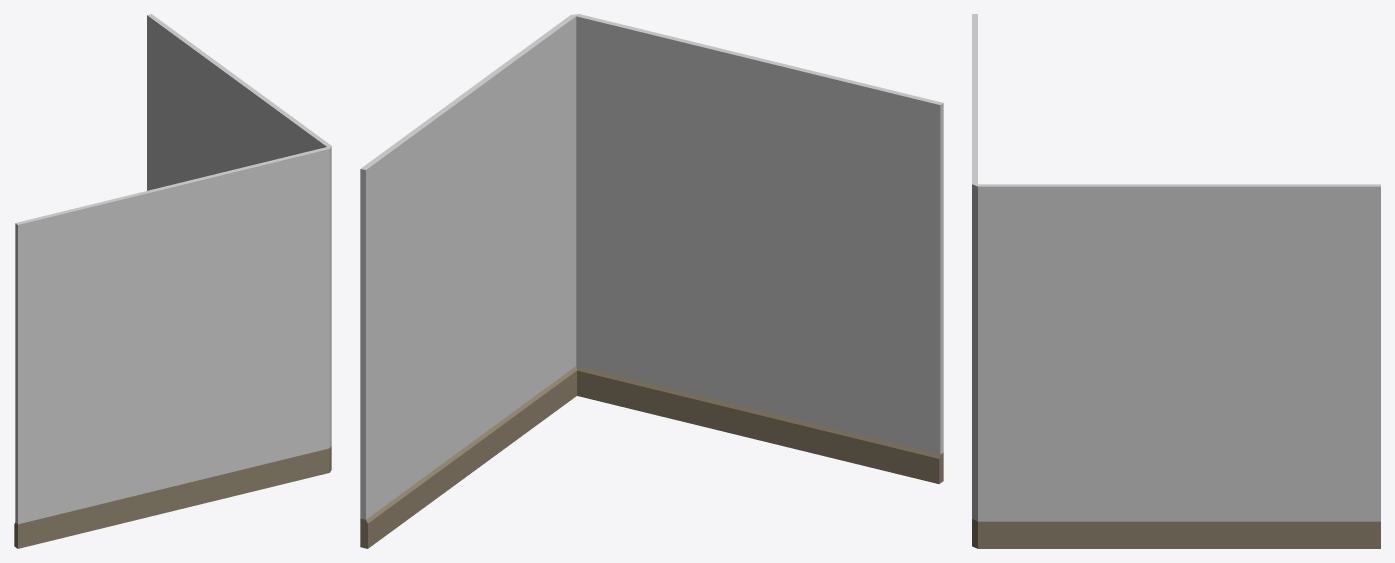
The model's file is innerWall_interiorCorner_mesh.fbx.
The picture shows the model from 3 angles, left to right: view 1: azimuth 30°, elevation 25°; view 2: azimuth 150°, elevation 25°; view 3: azimuth 270°, elevation 25°; orthographic projection. The views are drawn at different scales.
Parts seen in each view (by area): view 1: innerWall_interiorConer_mesh; view 2: innerWall_interiorConer_mesh; view 3: innerWall_interiorConer_mesh.
Part boxes in pixels (bbox=[...]): innerWall_interiorConer_mesh: bbox=[14, 14, 331, 548]; innerWall_interiorConer_mesh: bbox=[360, 14, 943, 548]; innerWall_interiorConer_mesh: bbox=[972, 14, 1380, 548].
Size of the model in its own units: 1 by 0.9777 by 1.
